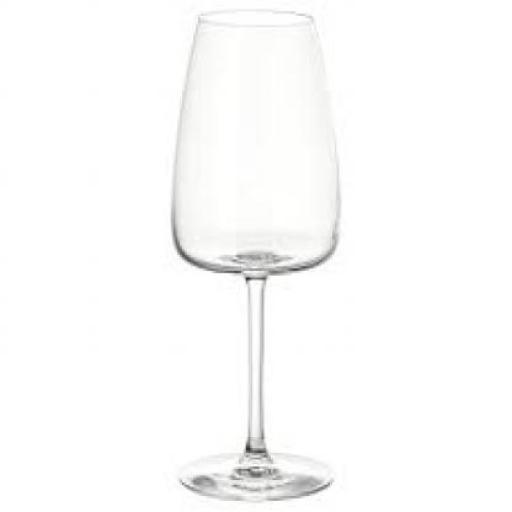glass: (173, 8, 334, 498)
